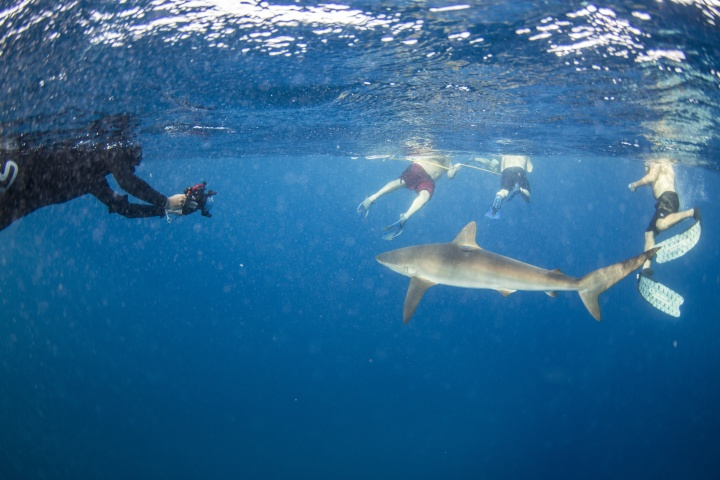Sedoso: (340, 220, 672, 336)
